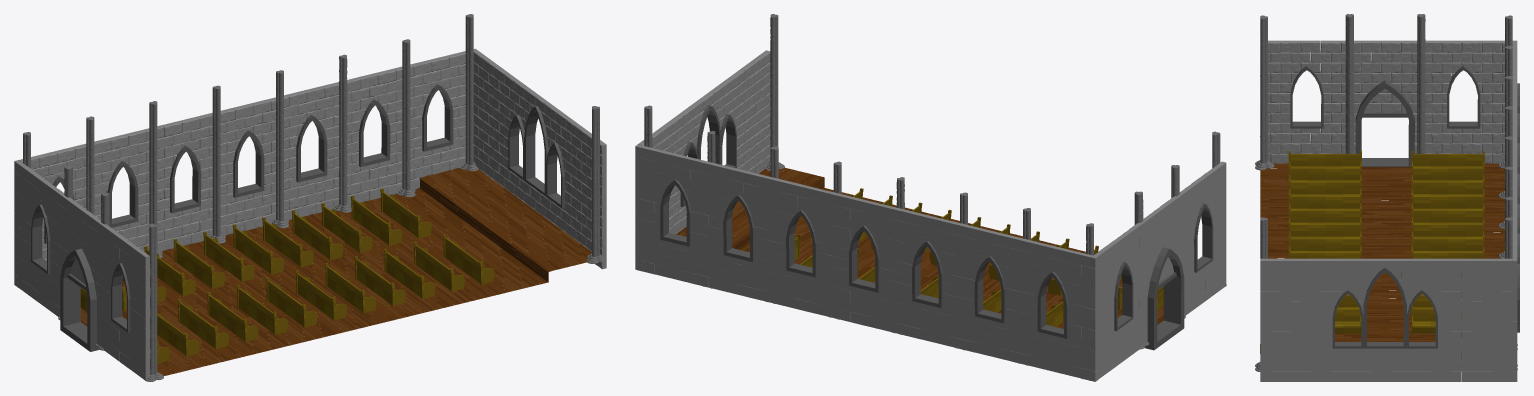
The model's file is church.fbx.
3 views of the same model, side by side, from view 1: azimuth 30°, elevation 25°; view 2: azimuth 150°, elevation 25°; view 3: azimuth 270°, elevation 25° (orthographic). The views are drawn at different scales.
Parts seen in each view (by area): view 1: Cube.014, floor 1, pews, Cube.550, Cube.395, Cylinder.003, Cube.007, Cube.002, Cube.001, Cylinder.002, Cylinder.001; view 2: Cube.014, Cube.550, Cube.007, Cube.395, floor 1, pews, Cube.001, Cylinder.003, Cube.002, Cylinder.002, Cylinder.001; view 3: Cube.395, Cube.550, pews, floor 1, Cylinder.001, Cylinder.003, Cube.007, Cube.002, Cube.001, Cylinder.002, Cube.014.
Boxes of the visible parts, x1,y1,x2,y2 form: Cube.014: (14,48,477,286); floor 1: (81,168,591,375); pews: (80,188,494,363); Cube.550: (14,160,150,379); Cube.395: (473,50,606,269); Cylinder.003: (16,14,478,286); Cube.007: (31,84,453,332); Cube.002: (508,106,565,208); Cube.001: (60,248,99,351); Cylinder.002: (145,106,606,381); Cylinder.001: (58,166,109,350); Cube.014: (635,144,1098,381); Cube.550: (1090,161,1226,378); Cube.007: (660,179,1213,338); Cube.395: (635,50,770,269); floor 1: (676,167,1163,328); pews: (794,188,1163,326); Cube.001: (1145,247,1184,350); Cylinder.003: (639,105,1098,380); Cube.002: (680,105,736,206); Cylinder.002: (765,14,1226,286); Cylinder.001: (1134,165,1185,349); Cube.395: (1260,258,1517,381); Cube.550: (1260,40,1517,163); pews: (1288,151,1484,334); floor 1: (1260,163,1504,359); Cylinder.001: (1345,14,1425,153); Cylinder.003: (1498,15,1517,369); Cube.007: (1290,66,1519,332); Cube.002: (1332,267,1437,348); Cube.001: (1355,80,1414,166); Cylinder.002: (1255,15,1274,371); Cube.014: (1511,43,1517,371).
Bounding box in the file's own units: 10140 × 6917 × 20326.
